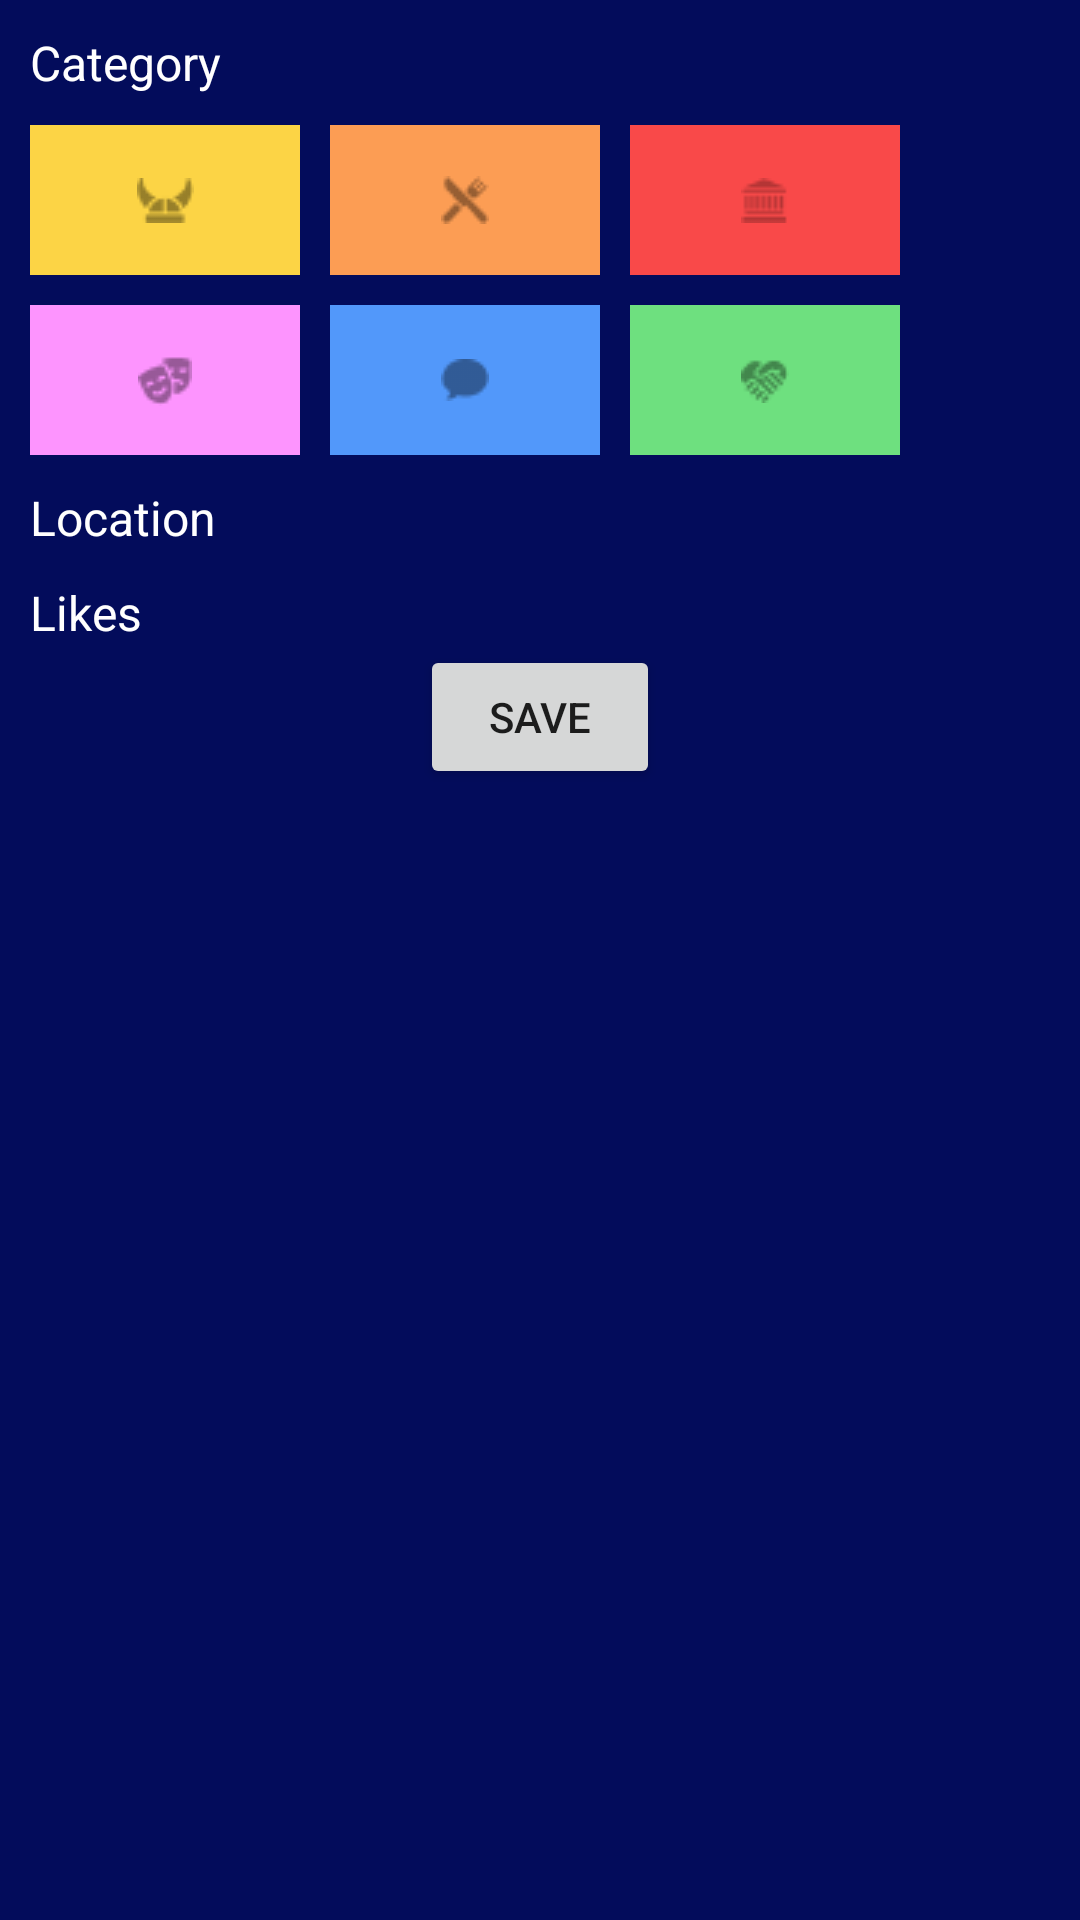

Named icons in this screenshot (1080w x 1920h) and their bounding boxes, (x1, y1, x2, y2):
food: (330, 125, 600, 275)
lang: (330, 305, 600, 455)
